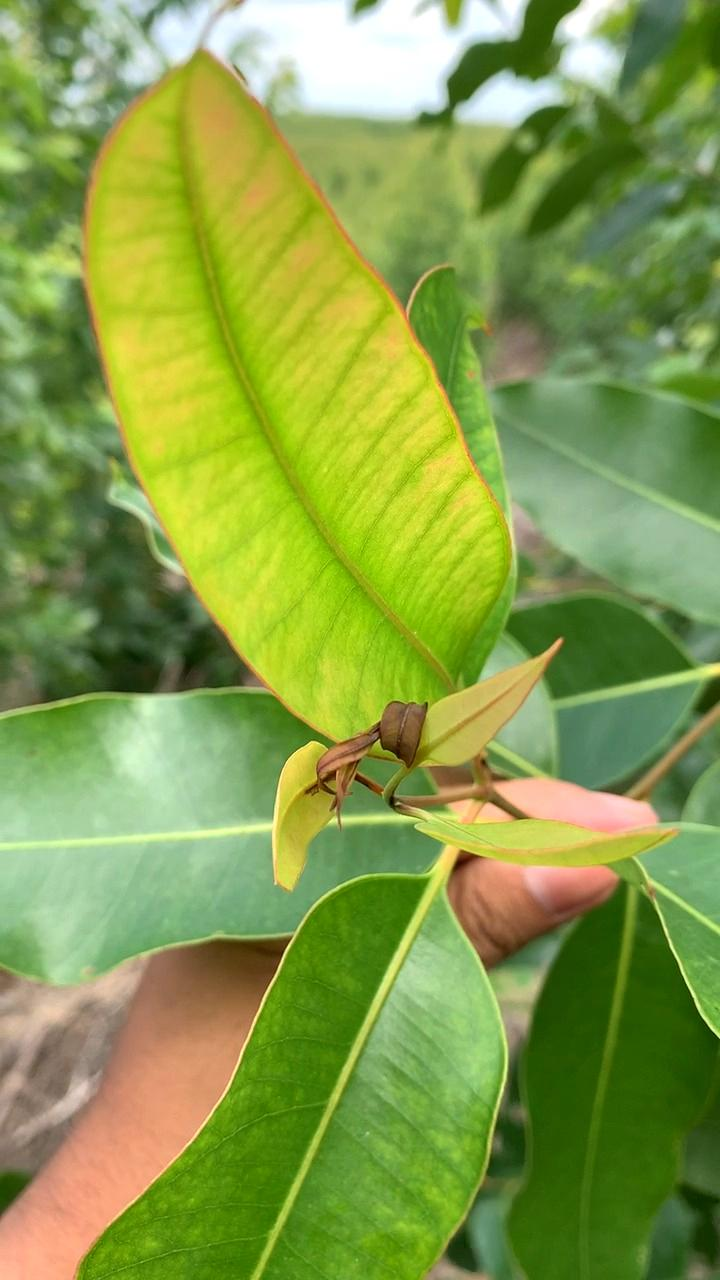Helopeltis-Withered Sprout: (293, 675, 453, 829)
